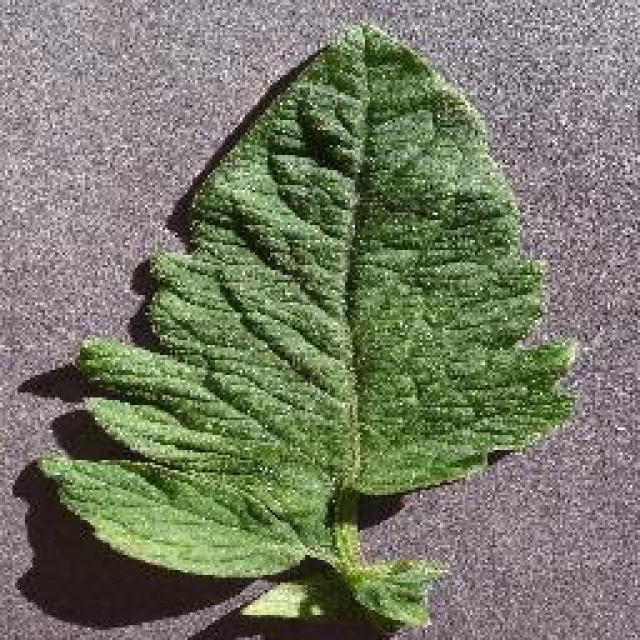Tomato_Healthy: (44, 11, 581, 586)
